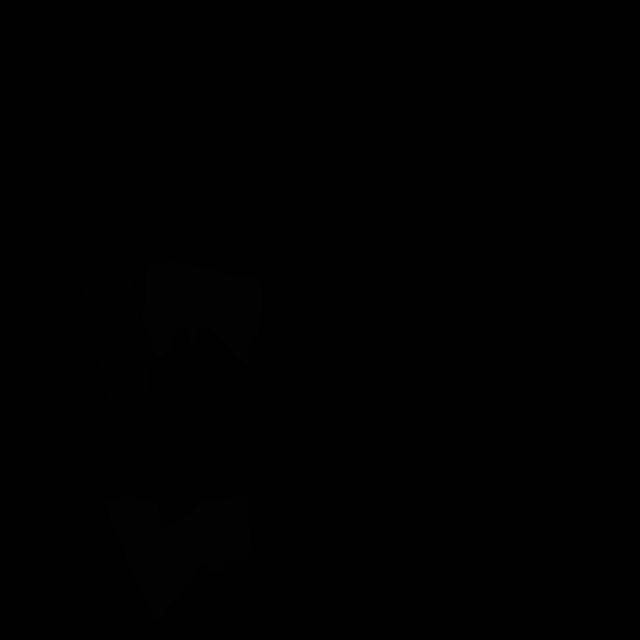cardboard: (104, 494, 252, 620), (142, 260, 262, 369)
rigid_plastic: (78, 268, 154, 442)
